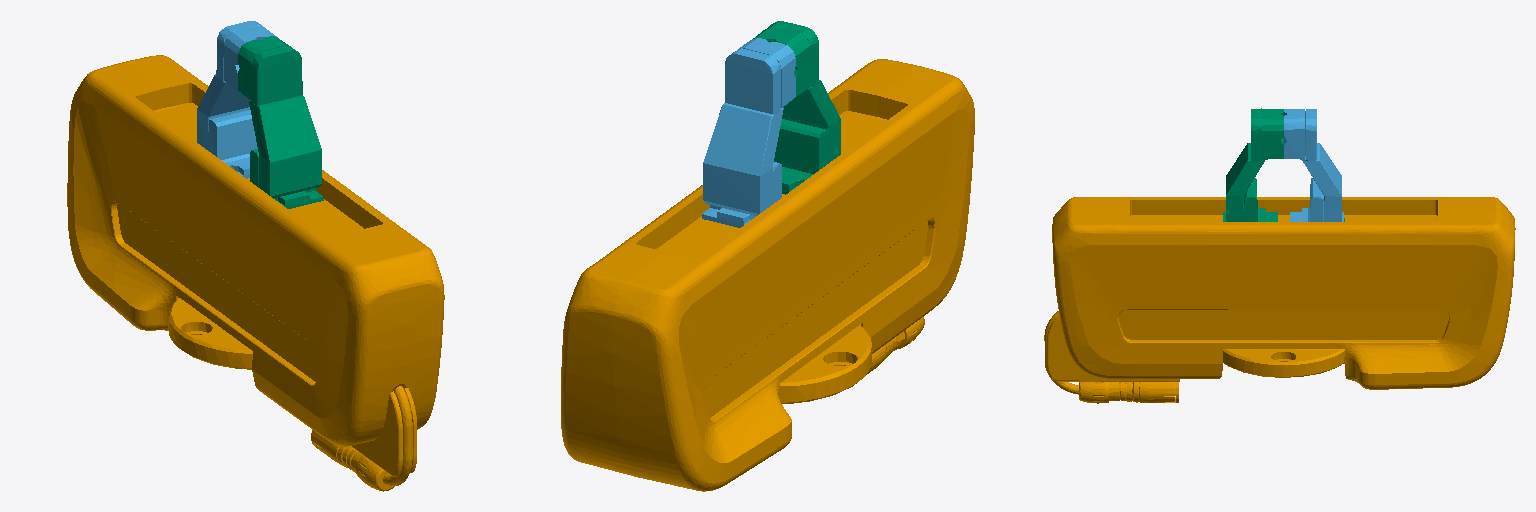
robot.urdf — panda_gripper:
<?xml version="1.0" ?>
<!-- =================================================================================== -->
<!-- |    This document was autogenerated by xacro from panda_arm_hand.urdf.xacro      | -->
<!-- |    EDITING THIS FILE BY HAND IS NOT RECOMMENDED                                 | -->
<!-- =================================================================================== -->
<robot name="panda_gripper" xmlns:xacro="http://www.ros.org/wiki/xacro">
  <link name="panda_hand">
    <visual>
      <geometry>
        <mesh filename="meshes/visual/hand.obj"/>
      </geometry>
    </visual>
    <collision>
      <geometry>
        <mesh filename="meshes/collision/hand.stl"/>
      </geometry>
    </collision>
  </link>
  <link name="panda_leftfinger">
    <visual>
      <geometry>
        <mesh filename="meshes/visual/finger.obj"/>
      </geometry>
    </visual>
    <collision>
      <geometry>
        <mesh filename="meshes/collision/finger.stl"/>
      </geometry>
    </collision>
  </link>
  <link name="panda_rightfinger">
    <visual>
      <origin rpy="0 0 3.14159265359" xyz="0 0 0"/>
      <geometry>
        <mesh filename="meshes/visual/finger.obj"/>
      </geometry>
    </visual>
    <collision>
      <origin rpy="0 0 3.14159265359" xyz="0 0 0"/>
      <geometry>
        <mesh filename="meshes/collision/finger.stl"/>
      </geometry>
    </collision>
  </link>
  <joint name="panda_finger_joint1" type="prismatic">
    <parent link="panda_hand"/>
    <child link="panda_leftfinger"/>
    <origin rpy="0 0 0" xyz="0 0 0.0584"/>
    <axis xyz="0 1 0"/>
    <limit effort="20" lower="0.0" upper="0.04" velocity="0.2"/>
  </joint>
  <joint name="panda_finger_joint2" type="prismatic">
    <parent link="panda_hand"/>
    <child link="panda_rightfinger"/>
    <origin rpy="0 0 0" xyz="0 0 0.0584"/>
    <axis xyz="0 -1 0"/>
    <limit effort="20" lower="0.0" upper="0.04" velocity="0.2"/>
    <mimic joint="panda_finger_joint1"/>
  </joint>
</robot>

--- Facts derived from the render (not from the file) ---
Views: 3 orthographic renders of the robot side by side, from view 1: azimuth 30°, elevation 25°; view 2: azimuth 150°, elevation 25°; view 3: azimuth 270°, elevation 25°.
Robot: panda_gripper — 3 links, 2 joints (2 prismatic); root link panda_hand; default pose: all joints at 0.
Visible links, largest first — view 1: panda_hand, panda_rightfinger, panda_leftfinger; view 2: panda_hand, panda_leftfinger, panda_rightfinger; view 3: panda_hand, panda_leftfinger, panda_rightfinger.
Link boxes in pixels (x1,y1,x2,y2): panda_hand: (67,55,444,491); panda_rightfinger: (238,36,323,208); panda_leftfinger: (197,21,277,178); panda_hand: (561,59,974,491); panda_leftfinger: (702,38,795,227); panda_rightfinger: (753,21,840,194); panda_hand: (1044,197,1515,403); panda_leftfinger: (1284,109,1344,221); panda_rightfinger: (1223,108,1283,221).
Bounding box of the posed robot: 0.063 × 0.2045 × 0.1382 m (x, y, z).
Meshes: 2 distinct files referenced, 3 mesh visuals loaded (2 OBJ).